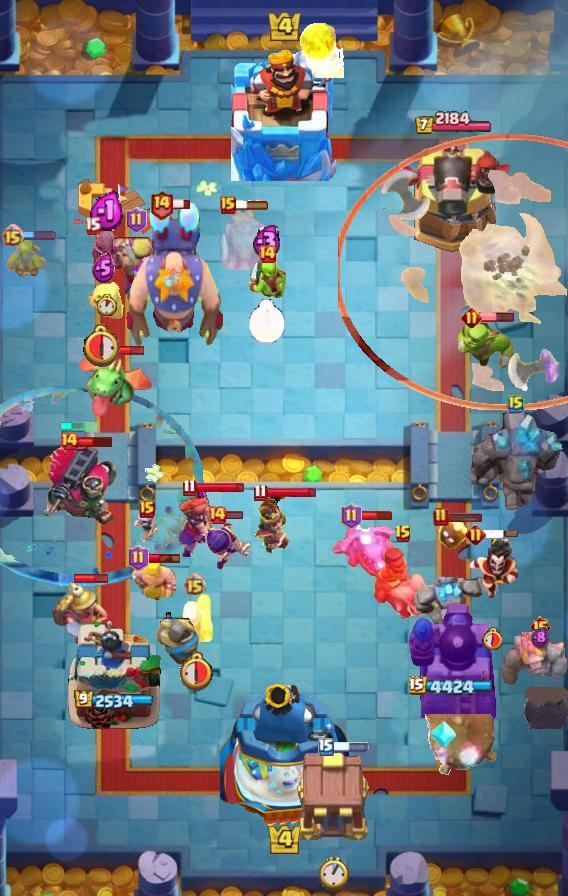axe: (364, 168, 432, 222), (507, 347, 559, 397)
bar: (266, 486, 317, 499), (194, 481, 245, 494), (77, 435, 114, 448), (146, 552, 182, 564), (447, 511, 483, 523), (479, 311, 515, 323), (21, 229, 57, 241), (234, 199, 270, 211), (74, 573, 109, 584), (110, 345, 145, 356), (331, 742, 369, 752), (359, 510, 393, 521), (483, 529, 519, 539), (171, 198, 191, 210), (225, 510, 244, 520)
bar-level: (149, 189, 174, 220), (529, 615, 552, 639), (128, 545, 149, 571), (341, 503, 362, 529), (126, 207, 147, 233), (183, 573, 206, 596), (1, 224, 24, 247), (465, 524, 486, 545), (461, 307, 482, 328), (207, 505, 227, 525), (59, 431, 79, 451), (257, 244, 277, 264), (394, 524, 412, 544), (84, 216, 101, 235), (433, 507, 449, 527), (508, 394, 524, 414), (318, 738, 334, 756), (139, 500, 155, 518), (220, 196, 236, 214), (253, 483, 268, 502), (182, 478, 197, 497)
barbarian: (128, 560, 176, 604)
barbarian-evolution: (111, 237, 161, 303)
bomb: (524, 687, 568, 729)
bomber-evolution: (206, 518, 254, 572)
cannoneer-tower: (392, 138, 514, 256), (408, 599, 498, 731)
clock: (83, 322, 124, 367), (248, 299, 286, 344), (176, 650, 213, 691), (319, 856, 349, 890), (482, 627, 502, 650), (97, 294, 117, 316)
electro-dragon: (331, 521, 399, 577)
electro-wizard: (463, 539, 521, 603)
elixir: (89, 191, 126, 232), (252, 223, 282, 259), (92, 253, 115, 283), (531, 626, 549, 649)
fire-spirit: (436, 514, 470, 552)
firecracker: (173, 591, 215, 649)
goblin: (4, 239, 48, 281), (246, 260, 288, 302)
goblin-brawler: (452, 319, 514, 375)
golemite: (410, 575, 482, 645), (502, 632, 568, 692)
heal-spirit: (82, 278, 124, 322)
ice-spirit-evolution-symbol: (429, 719, 457, 751)
king-tower: (220, 678, 349, 826), (231, 43, 337, 181)
knight: (156, 612, 207, 675)
little-prince: (252, 492, 291, 554)
miner: (50, 577, 108, 647)
mini-pekka: (81, 224, 133, 276)
queen-tower: (65, 617, 163, 731)
ram-rider: (373, 545, 433, 621)
royal-ghost: (216, 205, 270, 271)
skeleton: (133, 512, 161, 546)
tower-bar: (414, 111, 493, 136), (409, 676, 497, 698), (74, 690, 154, 711)
valkyrie-evolution: (176, 484, 220, 560)
